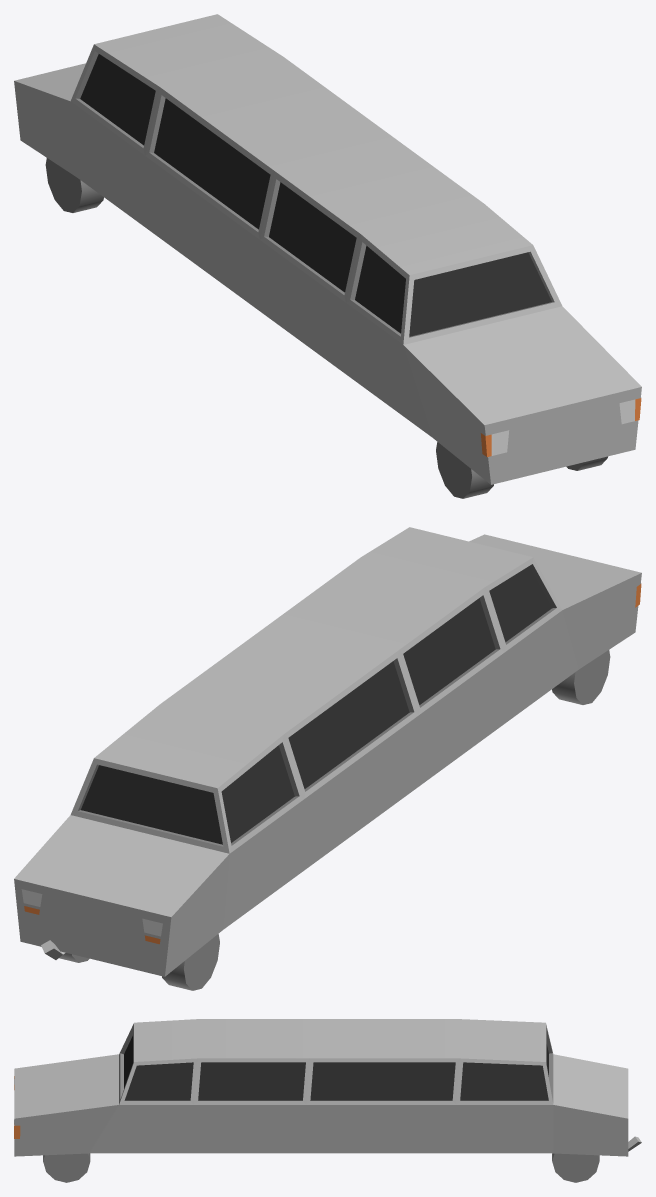
Rendered from limo_08.fbx.
3 renders of one model, top to bottom at view 1: azimuth 30°, elevation 25°; view 2: azimuth 150°, elevation 25°; view 3: azimuth 270°, elevation 25°, orthographic. The views are drawn at different scales.
Visible parts, largest first — view 1: limo_08; view 2: limo_08; view 3: limo_08.
Boxes of the visible parts, x1,y1,x2,y2 form: limo_08: (14,14,641,498); limo_08: (14,527,641,990); limo_08: (14,1019,641,1182).
Bounding box in the file's own units: 1.6 × 1.8 × 8.39.
